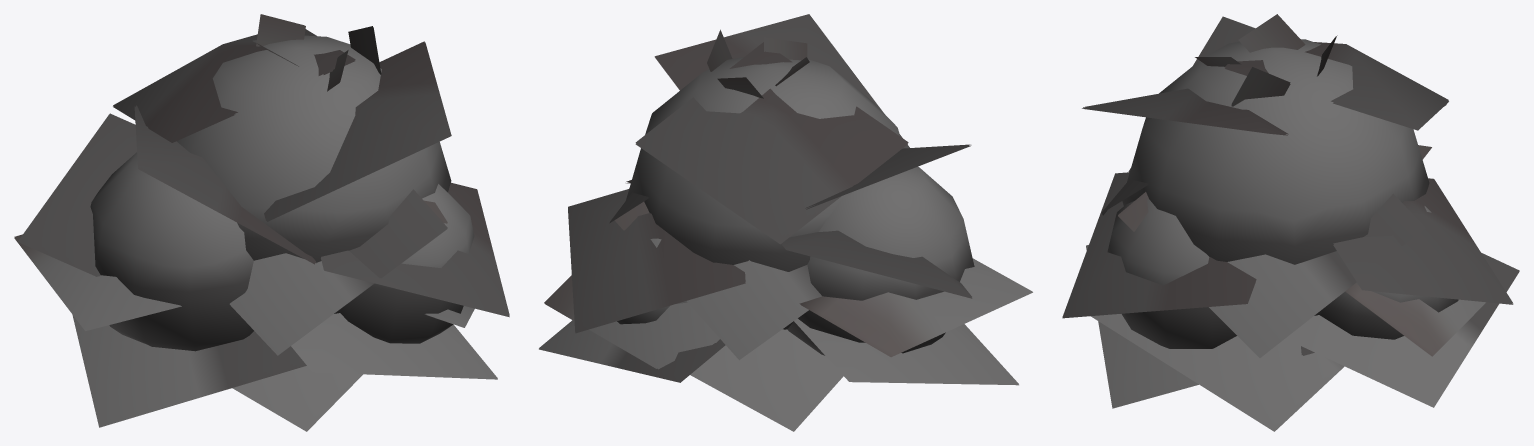
Rendered from guanmu_02.FBX.
The picture shows the model from 3 angles, left to right: view 1: azimuth 30°, elevation 25°; view 2: azimuth 150°, elevation 25°; view 3: azimuth 270°, elevation 25°; orthographic projection. The views are drawn at different scales.
Visible parts, largest first — view 1: guanmu_02; view 2: guanmu_02; view 3: guanmu_02.
Part boxes in pixels (left/top/right/bottom): guanmu_02: left=14, top=14, right=509, bottom=431; guanmu_02: left=539, top=14, right=1032, bottom=431; guanmu_02: left=1062, top=14, right=1519, bottom=431.
Size of the model in its own units: 3.19 by 2.48 by 2.95.
